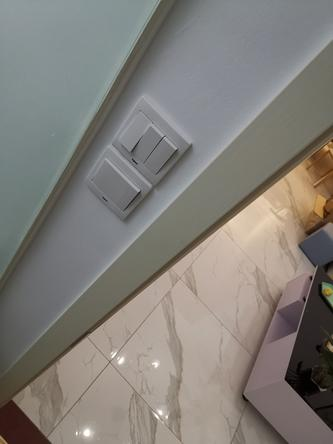switch: (101, 164, 131, 203), (134, 127, 150, 158), (122, 112, 135, 146), (137, 113, 157, 133), (156, 137, 162, 171)
